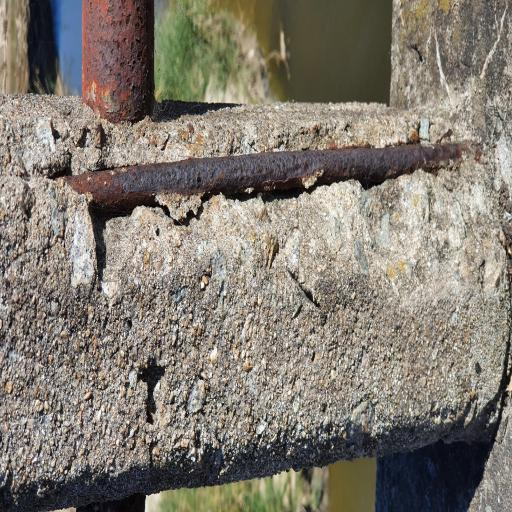exposed_rebar: (64, 142, 480, 213), (82, 0, 155, 123)
